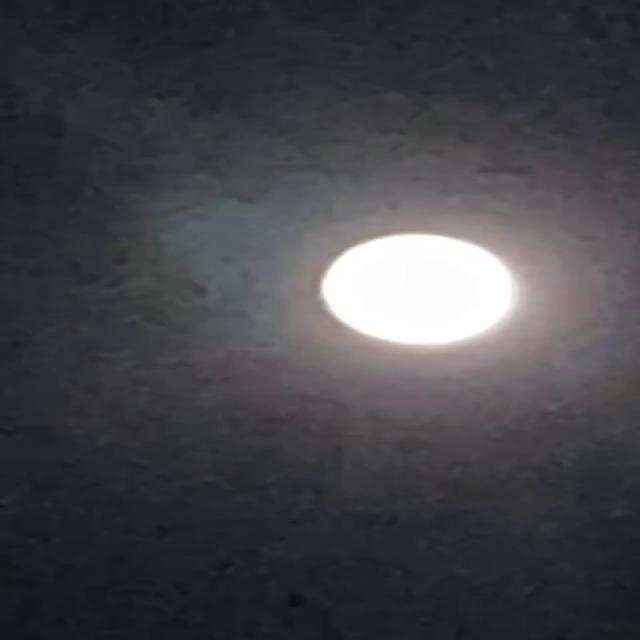moon: (311, 225, 538, 346)
